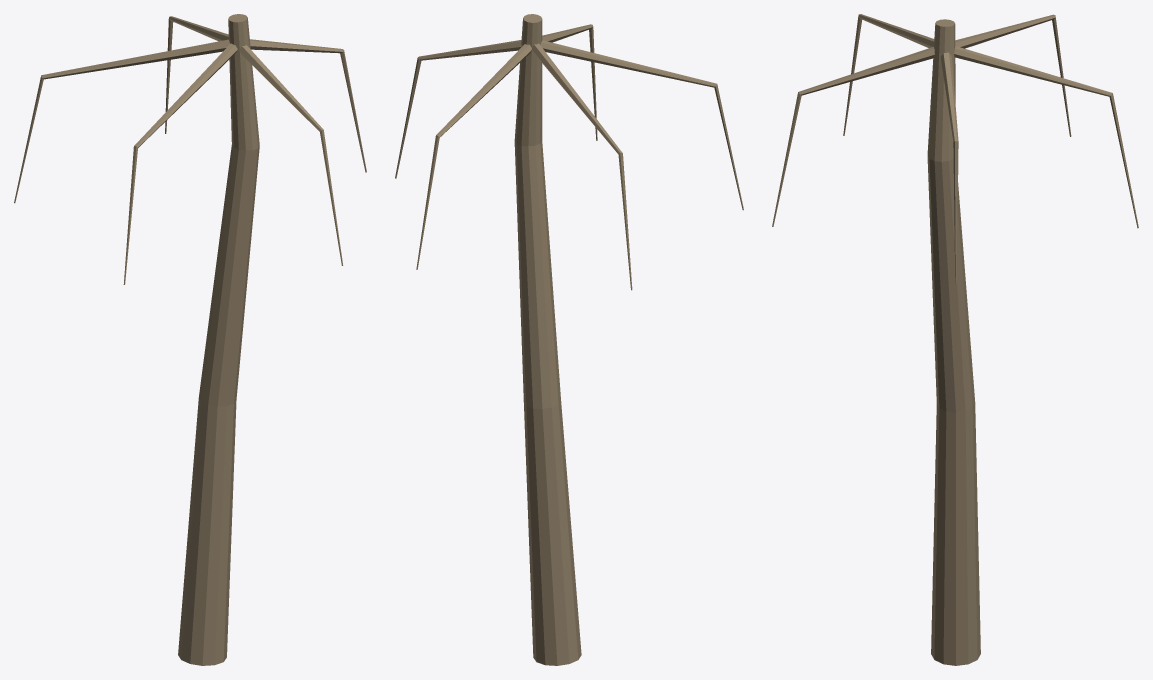
Rendered from desert-canyons-and-oases-date-palm-dead-8d29aac2__20982.glb.
The picture shows the model from 3 angles, left to right: view 1: azimuth 30°, elevation 25°; view 2: azimuth 150°, elevation 25°; view 3: azimuth 270°, elevation 25°; orthographic projection. The views are drawn at different scales.
Parts seen in each view (by area): view 1: date-palm-dead; view 2: date-palm-dead; view 3: date-palm-dead.
Boxes of the visible parts, x1=… form: date-palm-dead: x1=14, y1=14, x2=366, y2=665; date-palm-dead: x1=395, y1=14, x2=743, y2=665; date-palm-dead: x1=772, y1=14, x2=1138, y2=665.
Size of the model in its own units: 2.7 by 5.52 by 2.83.
